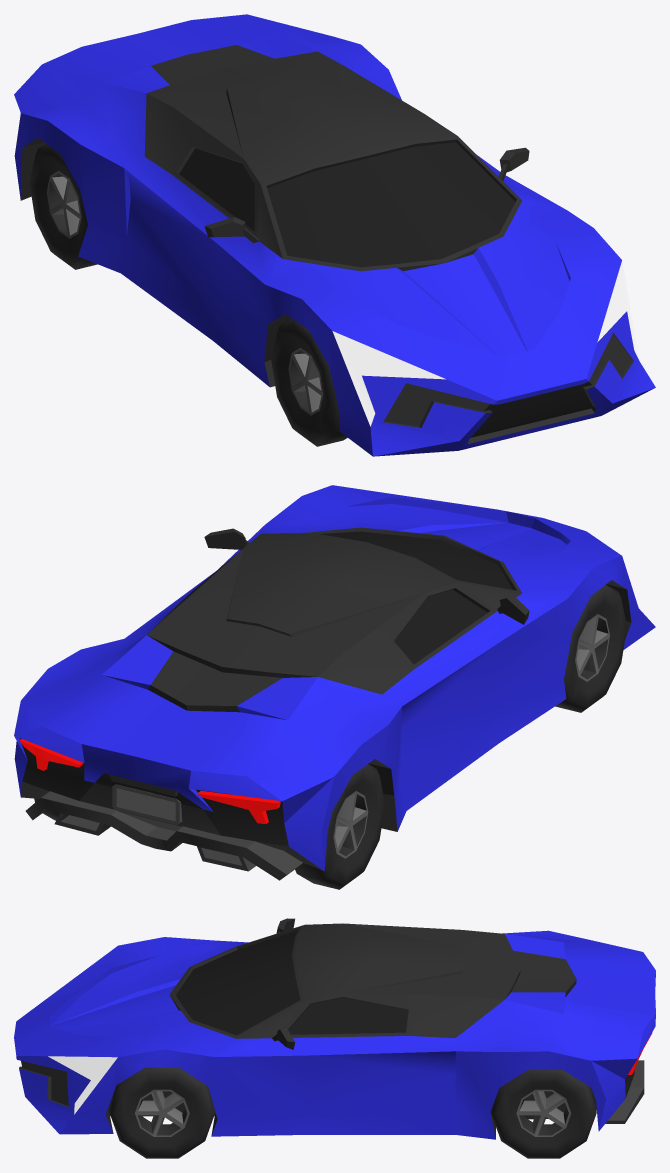
Rendered from fenyr.glb.
3 renders of one model, top to bottom at view 1: azimuth 30°, elevation 25°; view 2: azimuth 150°, elevation 25°; view 3: azimuth 270°, elevation 25°, orthographic. The views are drawn at different scales.
Visible parts, largest first — view 1: fenyr, wheels.020, wheels.021; view 2: fenyr, wheels.021, wheels.020; view 3: fenyr, wheels.038, wheels.039.
Boxes of the visible parts, x1=… form: fenyr: x1=14, y1=14, x2=655, y2=456; wheels.020: x1=271, y1=319, x2=347, y2=446; wheels.021: x1=29, y1=144, x2=97, y2=269; fenyr: x1=14, y1=485, x2=655, y2=880; wheels.021: x1=295, y1=764, x2=385, y2=889; wheels.020: x1=555, y1=585, x2=626, y2=712; fenyr: x1=14, y1=918, x2=655, y2=1139; wheels.038: x1=109, y1=1067, x2=215, y2=1158; wheels.039: x1=491, y1=1070, x2=596, y2=1158.
Size of the model in its own units: 2.22 by 1.3 by 4.88.
Materials: 4 (4 with a texture image).
